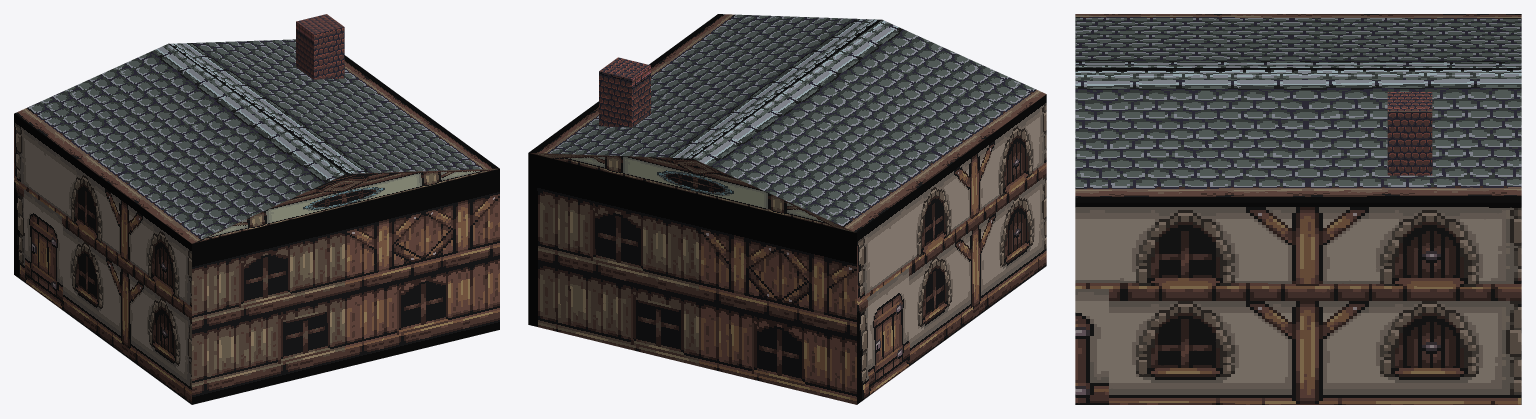
File: cottage.glb
3 views of the same model, side by side, from view 1: azimuth 30°, elevation 25°; view 2: azimuth 150°, elevation 25°; view 3: azimuth 270°, elevation 25° (orthographic). The views are drawn at different scales.
Parts seen in each view (by area): view 1: Cottage_Body, Cottage_Roof_Left, Cottage_Roof_Right, Cottage_Gable_Front, Cottage_Chimney; view 2: Cottage_Body, Cottage_Roof_Left, Cottage_Roof_Right, Cottage_Gable_Back, Cottage_Chimney; view 3: Cottage_Body, Cottage_Roof_Right, Cottage_Roof_Left, Cottage_Chimney.
Part boxes in pixels (bbox=[...]): Cottage_Body: bbox=[14, 114, 499, 404]; Cottage_Roof_Left: bbox=[14, 44, 345, 243]; Cottage_Roof_Right: bbox=[168, 39, 499, 173]; Cottage_Gable_Front: bbox=[193, 168, 498, 243]; Cottage_Chimney: bbox=[296, 14, 344, 79]; Cottage_Body: bbox=[528, 94, 1046, 404]; Cottage_Roof_Left: bbox=[693, 20, 1046, 232]; Cottage_Roof_Right: bbox=[528, 14, 881, 158]; Cottage_Gable_Back: bbox=[530, 153, 855, 232]; Cottage_Chimney: bbox=[599, 57, 650, 127]; Cottage_Body: bbox=[1075, 202, 1521, 404]; Cottage_Roof_Right: bbox=[1075, 68, 1521, 202]; Cottage_Roof_Left: bbox=[1075, 14, 1521, 67]; Cottage_Chimney: bbox=[1387, 92, 1432, 175].
Size of what is drawn, in the model's own units: 5 by 3.4 by 5.
1 material, 1 textured.
